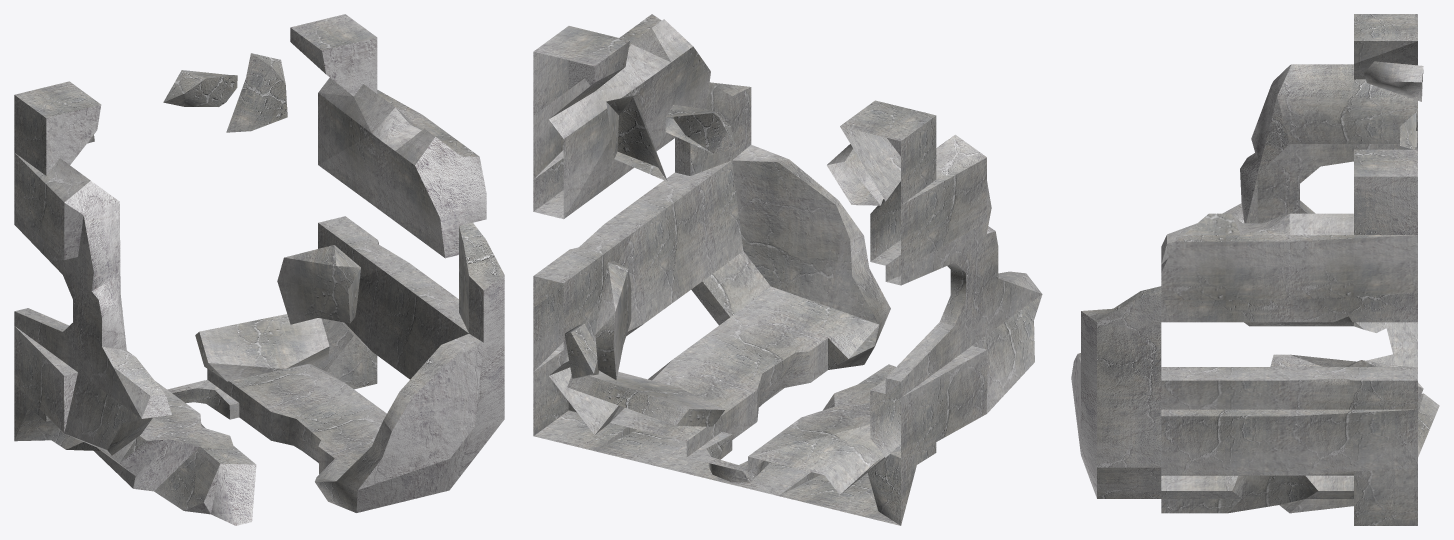
File: rv_mod_cit_lookout.obj
3 views of the same model, side by side, from view 1: azimuth 30°, elevation 25°; view 2: azimuth 150°, elevation 25°; view 3: azimuth 270°, elevation 25° (orthographic). The views are drawn at different scales.
Parts seen in each view (by area): view 1: rv_mod_cit_lookout; view 2: rv_mod_cit_lookout; view 3: rv_mod_cit_lookout.
Part boxes in pixels (x1=…): rv_mod_cit_lookout: x1=14, y1=14, x2=504, y2=525; rv_mod_cit_lookout: x1=533, y1=14, x2=1042, y2=525; rv_mod_cit_lookout: x1=1071, y1=14, x2=1439, y2=525.
Size of the model in its own units: 26.01 by 25 by 22.96.
3 materials, 3 textured.
